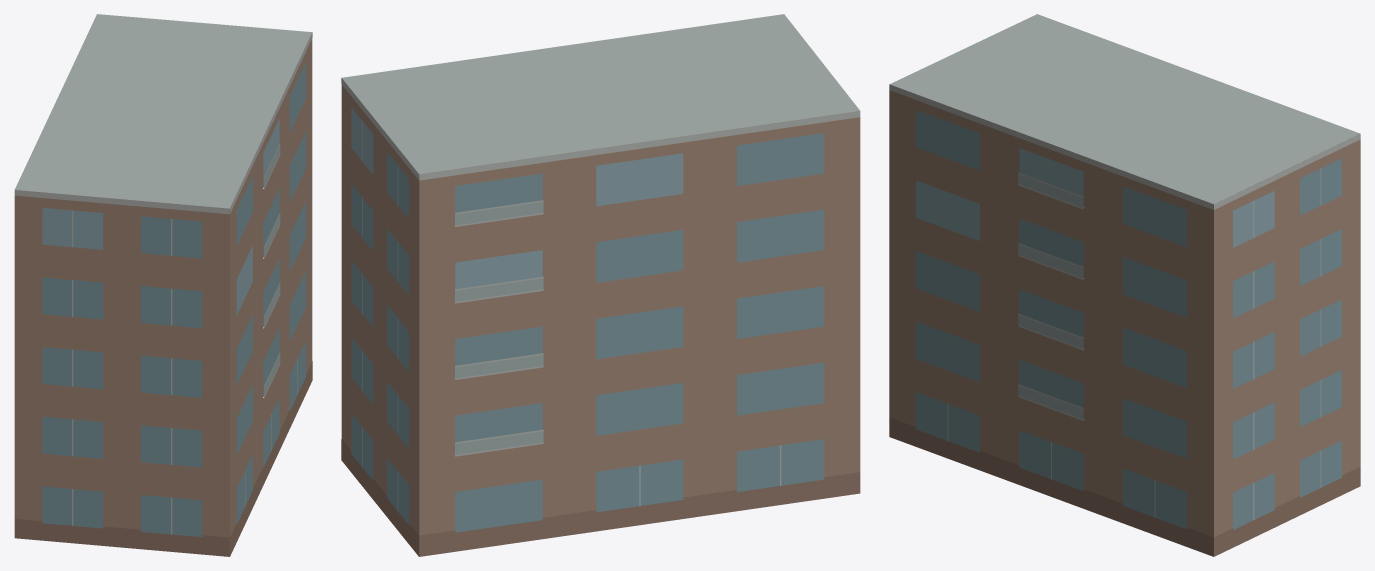
File: survey-upis-33014900.glb
3 views of the same model, side by side, from view 1: azimuth 30°, elevation 25°; view 2: azimuth 150°, elevation 25°; view 3: azimuth 270°, elevation 25° (orthographic). The views are drawn at different scales.
Parts seen in each view (by area): view 1: survey-upis-33014900.tmp; view 2: survey-upis-33014900.tmp; view 3: survey-upis-33014900.tmp.
Boxes of the visible parts, x1,y1,x2,y2 form: survey-upis-33014900.tmp: (14, 14, 312, 556); survey-upis-33014900.tmp: (341, 14, 860, 556); survey-upis-33014900.tmp: (889, 14, 1360, 556).
Bounding box in the file's own units: 17.19 × 14.85 × 17.99.
